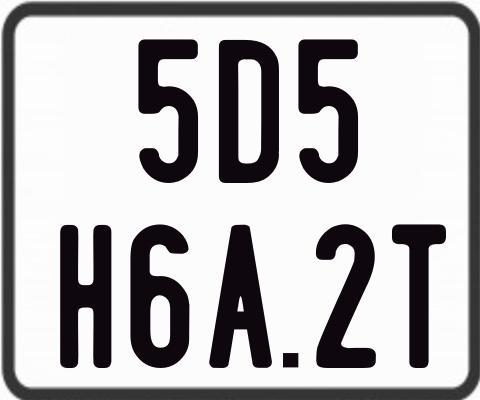2: (314, 222, 377, 366)
5: (297, 39, 360, 188), (135, 39, 197, 183)
6: (127, 221, 187, 367)
A: (206, 224, 273, 367)
D: (217, 40, 283, 187)
H: (57, 225, 112, 373)
T: (390, 223, 449, 370)
